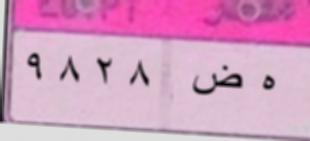2: (88, 55, 118, 89)
8: (56, 53, 83, 91), (127, 58, 153, 89)
9: (22, 48, 46, 87)
daad: (190, 65, 245, 101)
haa: (254, 70, 277, 96)
